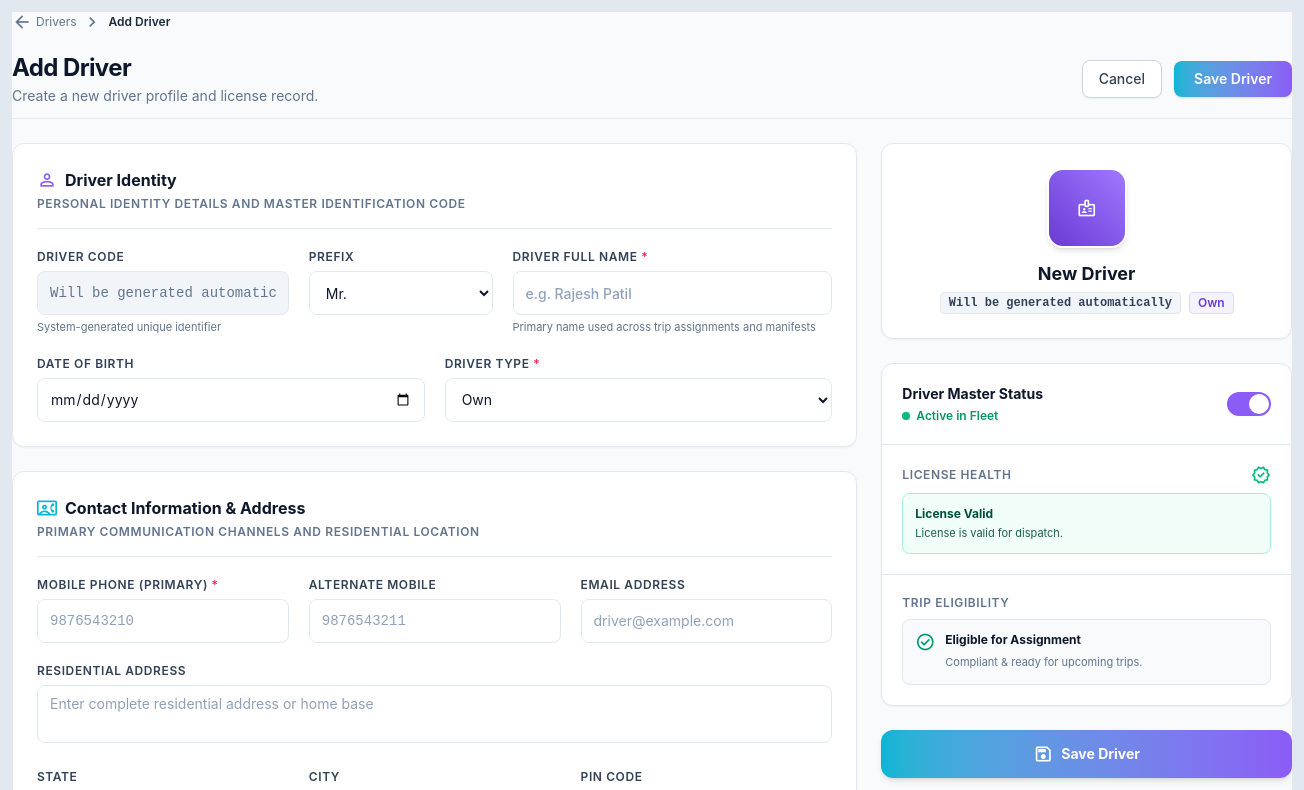
Test: DriverForm › toggles driver master status
Click the switch named "Driver Master Status".
click(1249, 404)  # box [1227, 392, 1271, 416]
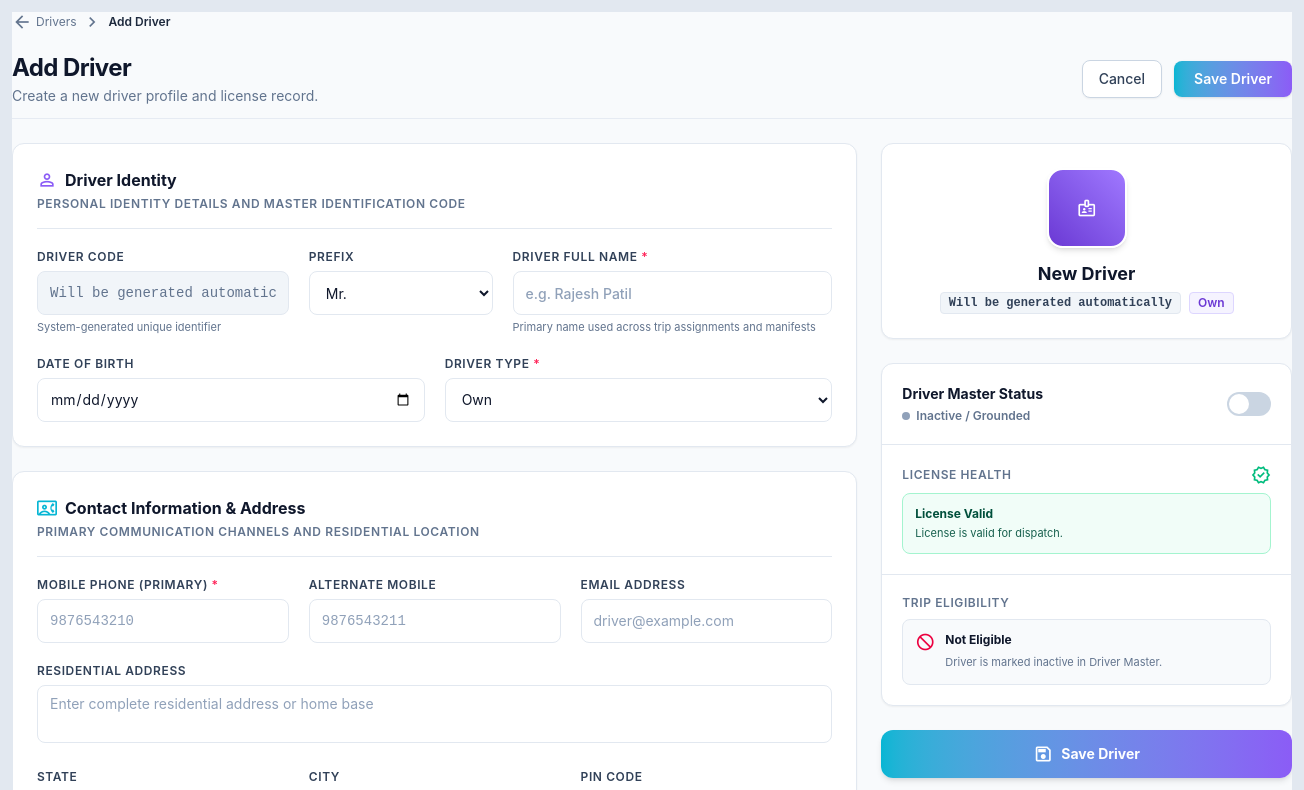
Expected: the switch named "Driver Master Status" is not checked, [1227, 392, 1271, 416]
Expected: the text "Inactive / Grounded" is shown, [916, 408, 1030, 424]
